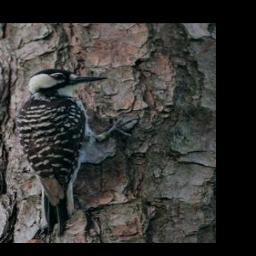Woodpecker: (9, 67, 145, 236)
